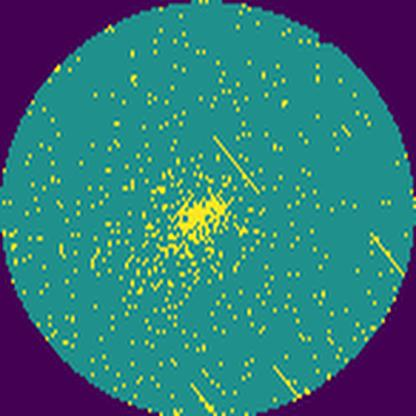Center: (174, 190, 231, 250)
